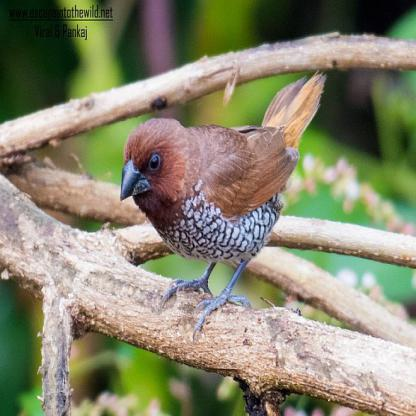Burung: (119, 70, 324, 343)
